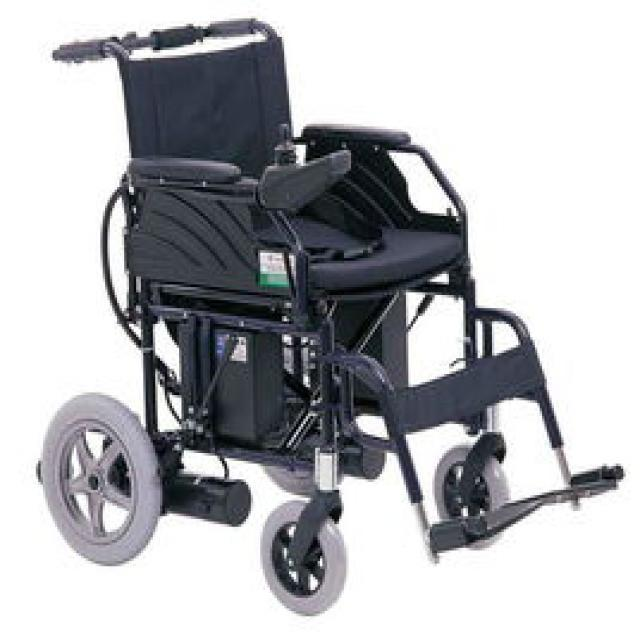wheelchair: (38, 11, 628, 614)
